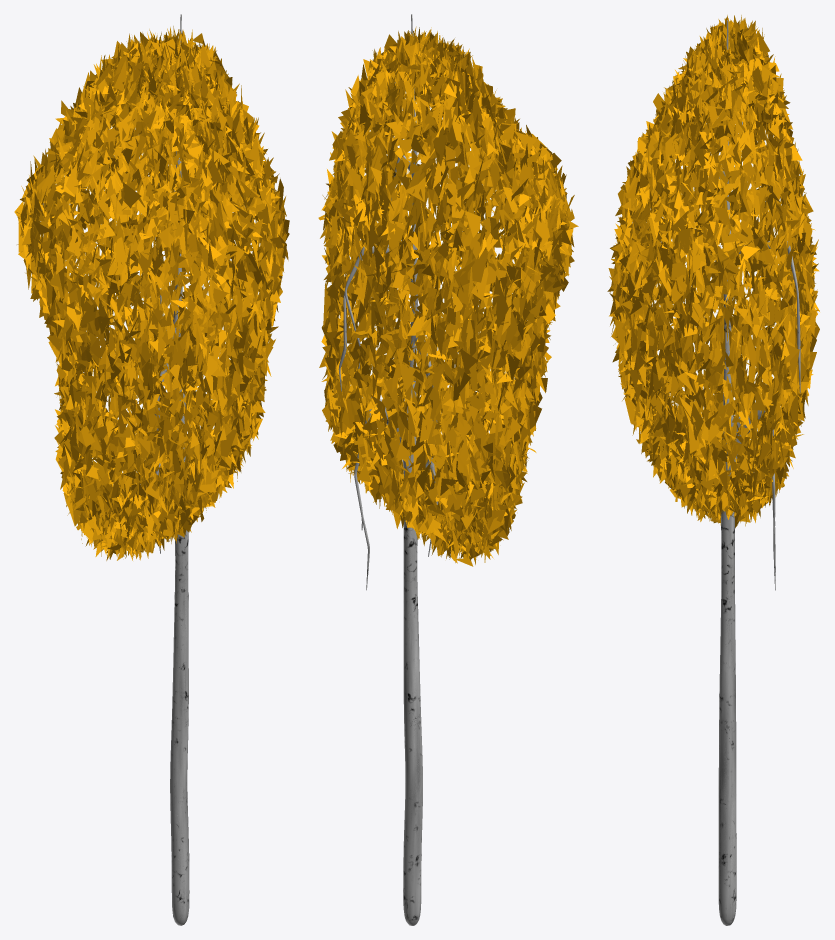
Rendered from Leaves13.002.fbx.
3 renders of one model, left to right at view 1: azimuth 30°, elevation 25°; view 2: azimuth 150°, elevation 25°; view 3: azimuth 270°, elevation 25°, orthographic.
Visible parts, largest first — view 1: Leaves13.002; view 2: Leaves13.002; view 3: Leaves13.002.
Part boxes in pixels (x1,y1,x2,y2): Leaves13.002: (14,14,289,925); Leaves13.002: (318,14,578,925); Leaves13.002: (607,15,819,925).
Size of the model in its own units: 739 by 2574 by 550.
Materials: 2 (1 with a texture image).
